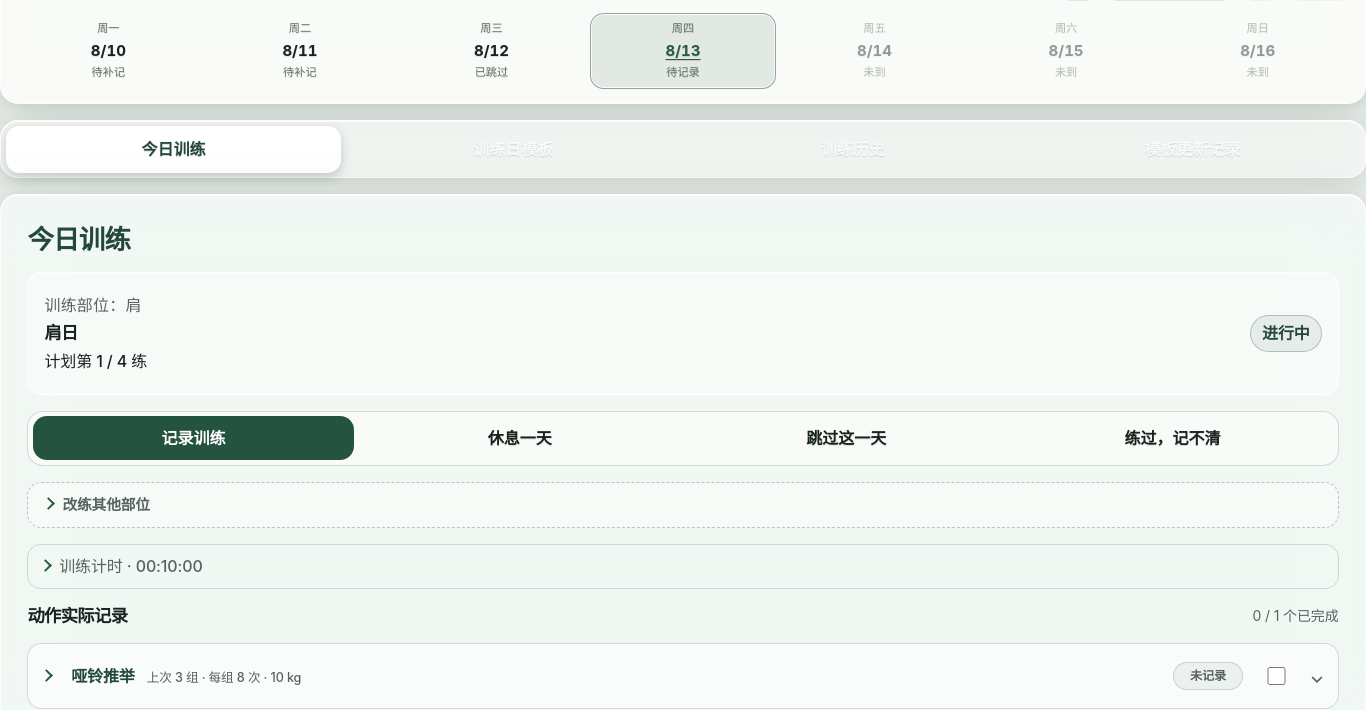
Test: ManualExerciseWorkspace › switches today to another template day without following the order
Click the heading "改练其他部位": [106, 505] box x1=62 y1=496 x2=150 y2=514
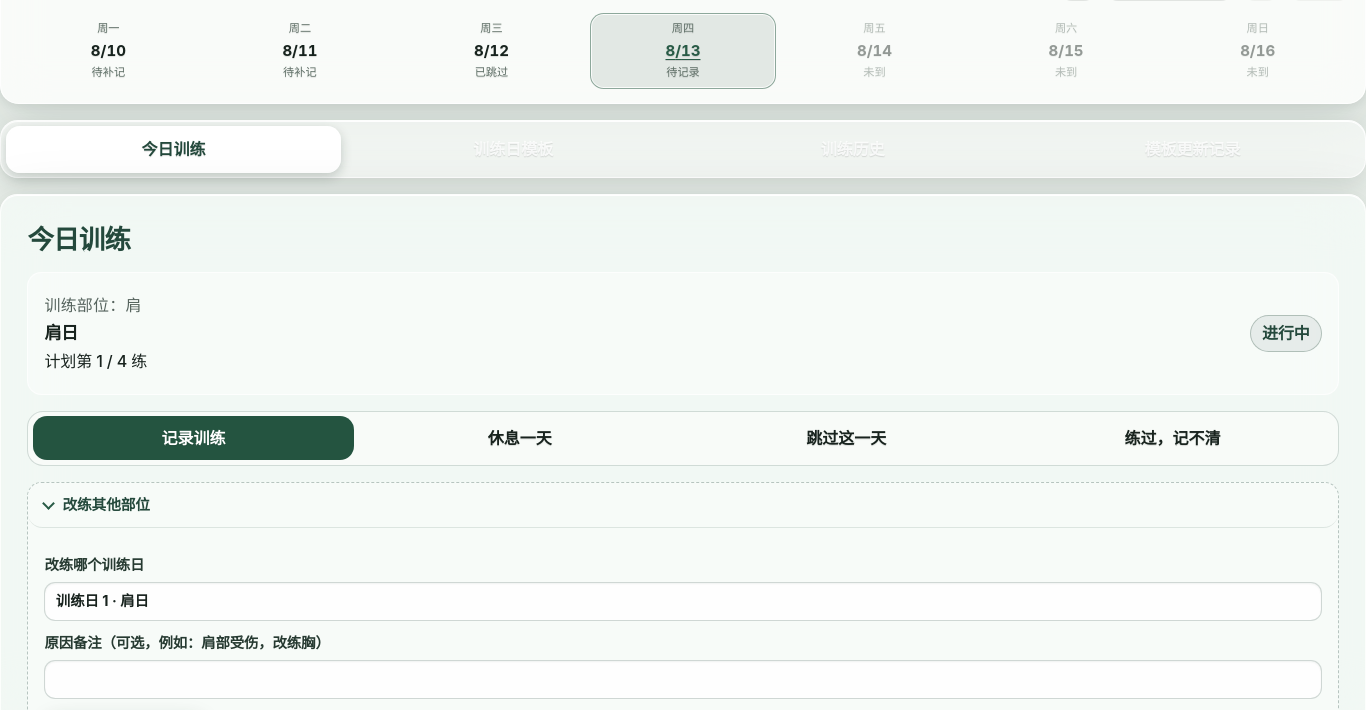
Select "训练日 2 · 腿日" in the dropdown labelled "改练哪个训练日": [683, 601] box x1=44 y1=582 x2=1322 y2=621
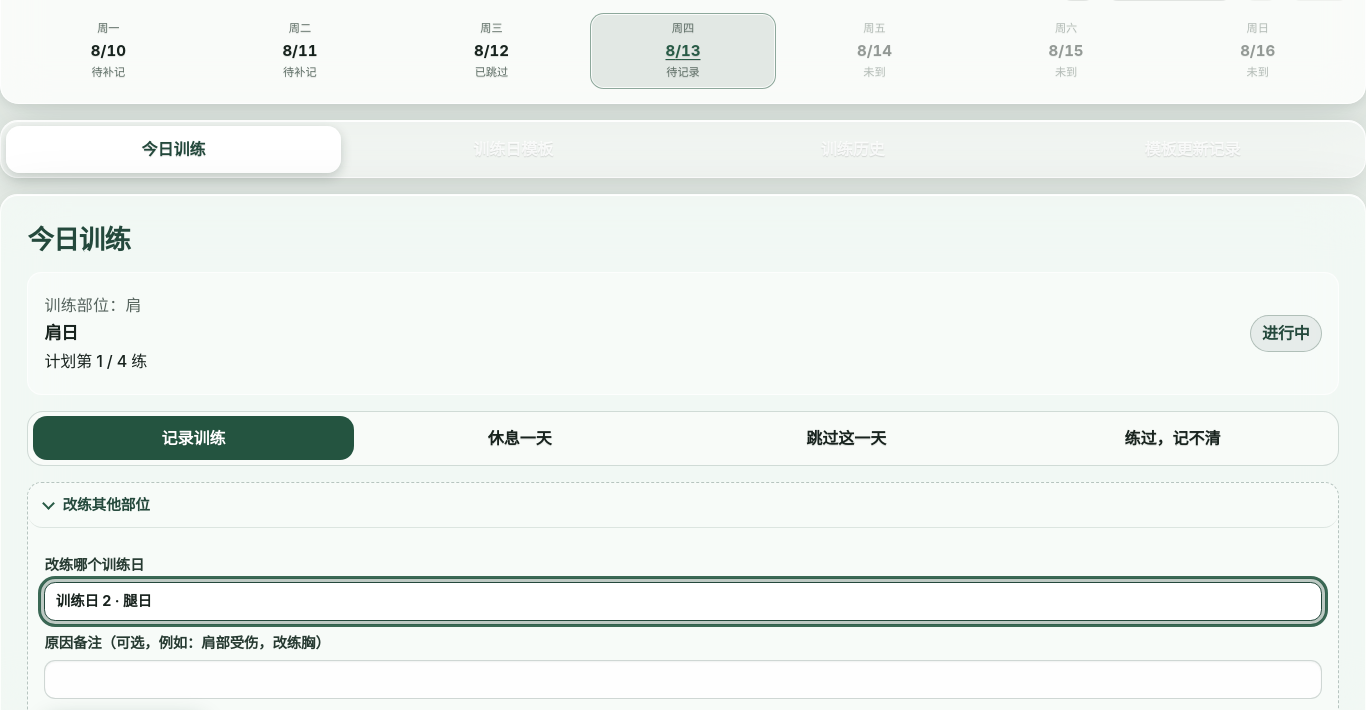
In the field labelled "原因备注（可选，例如：肩部受伤，改练胸）": [683, 679] box x1=44 y1=660 x2=1322 y2=699, type "肩部受伤，改练腿"
(page scrolled)
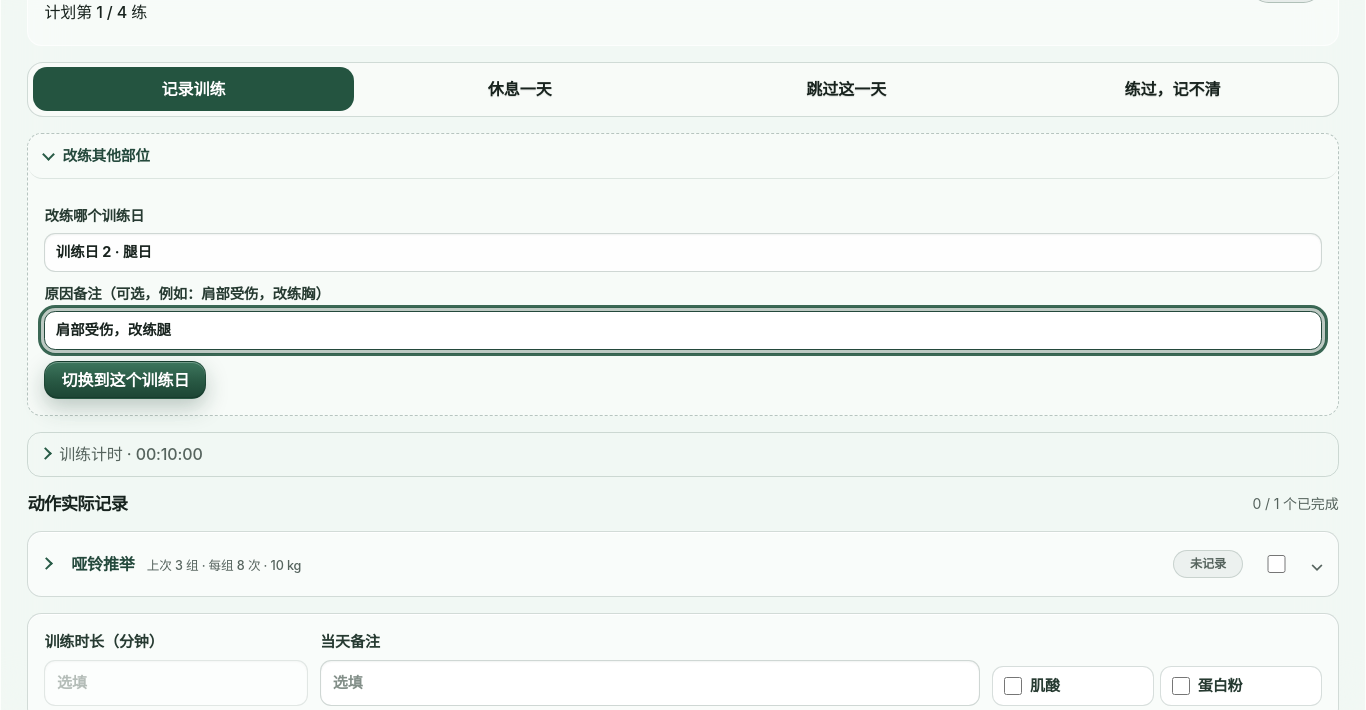
Click the button "切换到这个训练日": [125, 380] box x1=44 y1=361 x2=206 y2=399
(page scrolled)
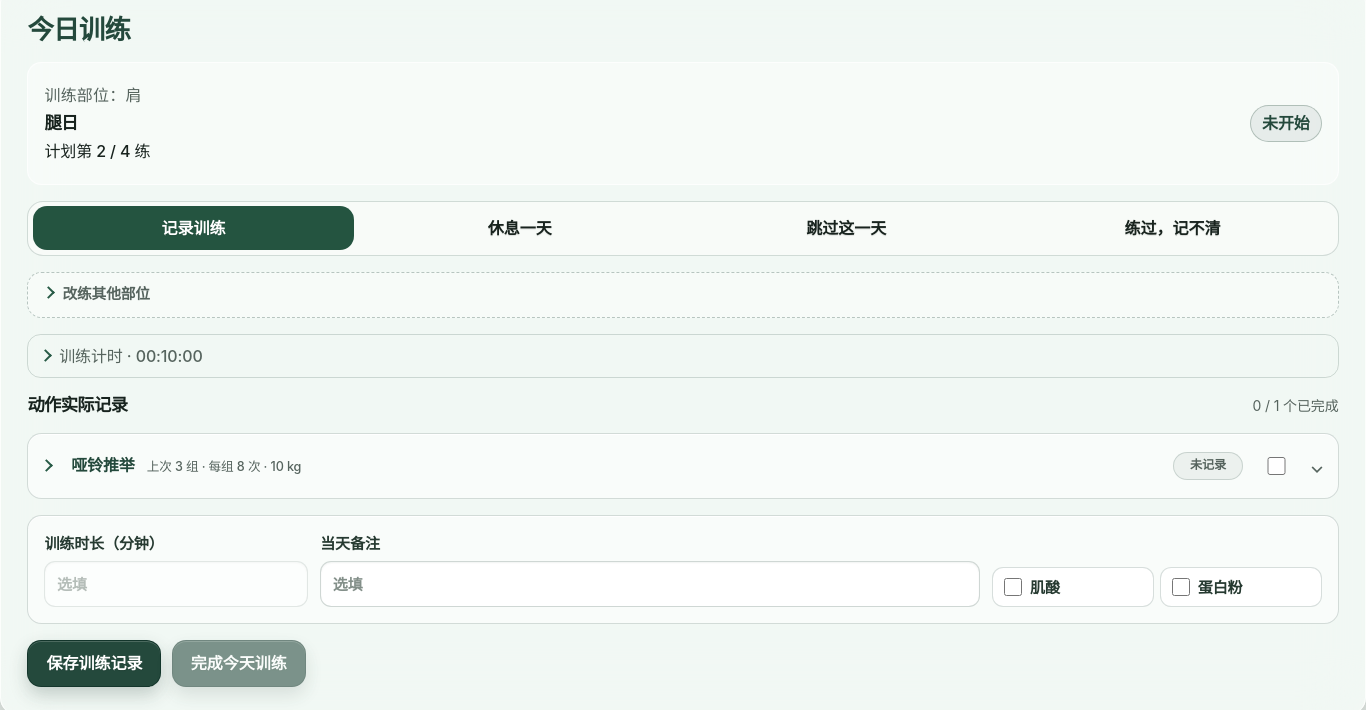
Expected: the text "计划第 2 / 4 练" is shown, x1=44 y1=139 x2=150 y2=163
